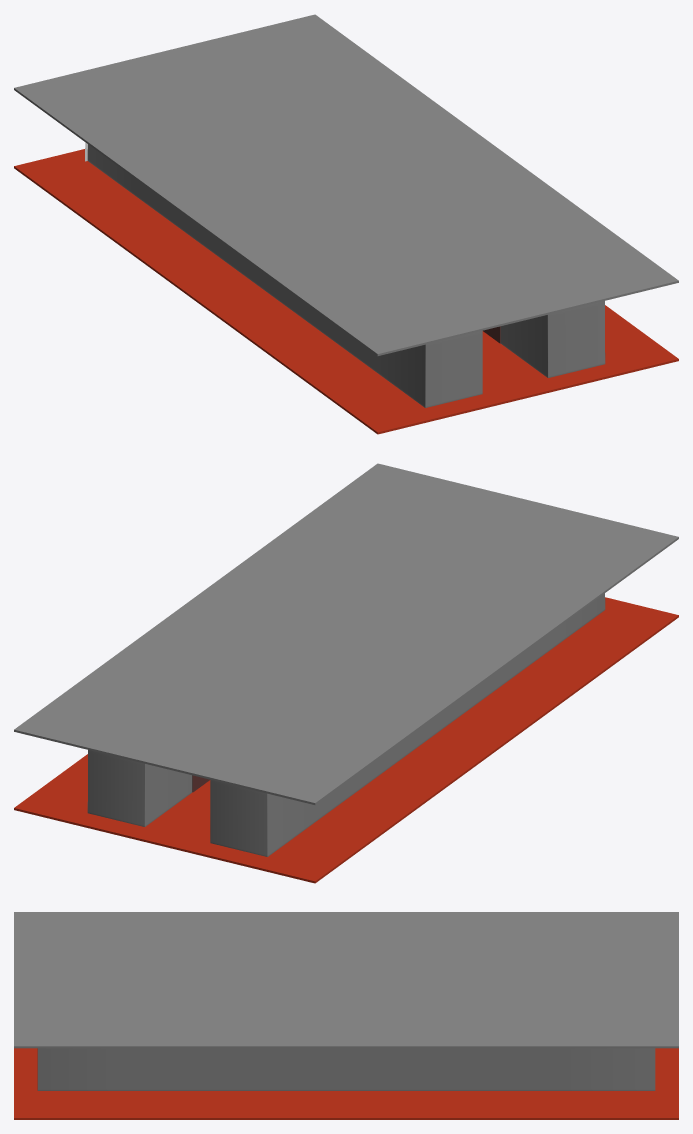
Rendered from corridor.glb.
3 renders of one model, top to bottom at view 1: azimuth 30°, elevation 25°; view 2: azimuth 150°, elevation 25°; view 3: azimuth 270°, elevation 25°, orthographic. The views are drawn at different scales.
Visible parts, largest first — view 1: ceiling, ground, wall; view 2: ceiling, ground, wall; view 3: ceiling, wall, ground.
Boxes of the visible parts, x1,y1,x2,y2 form: ceiling: [14, 14, 678, 355]; ground: [14, 149, 678, 434]; wall: [87, 144, 605, 407]; ceiling: [14, 463, 678, 804]; ground: [14, 597, 678, 883]; wall: [87, 593, 605, 856]; ceiling: [14, 912, 678, 1048]; wall: [37, 1048, 655, 1090]; ground: [14, 1048, 678, 1119].
Bounding box in the file's own units: 10.52 × 2.68 × 22.
